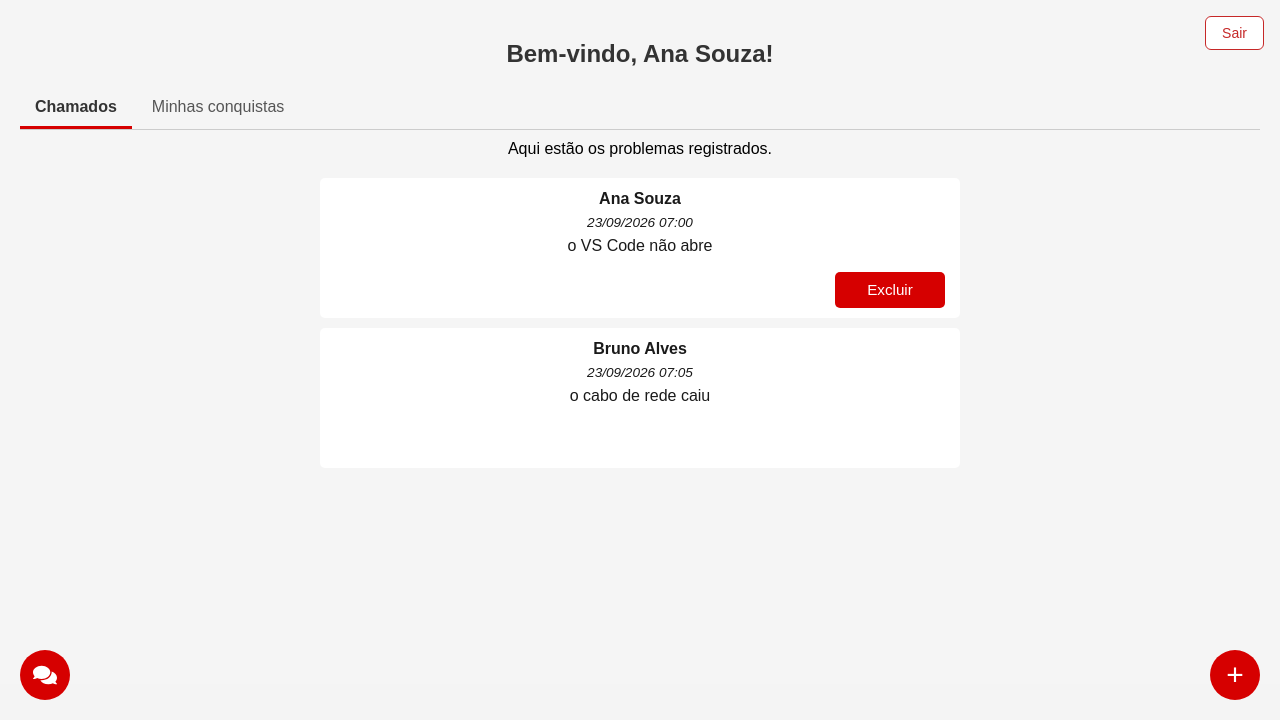
Test: o aluno exclui a própria dúvida, com confirmação (AC-CHAMADO-04) › pergunta antes, nomeando o que vai acontecer
The image size is (1280, 720).
Click the button "Excluir": (890, 290) [835,272,945,308]
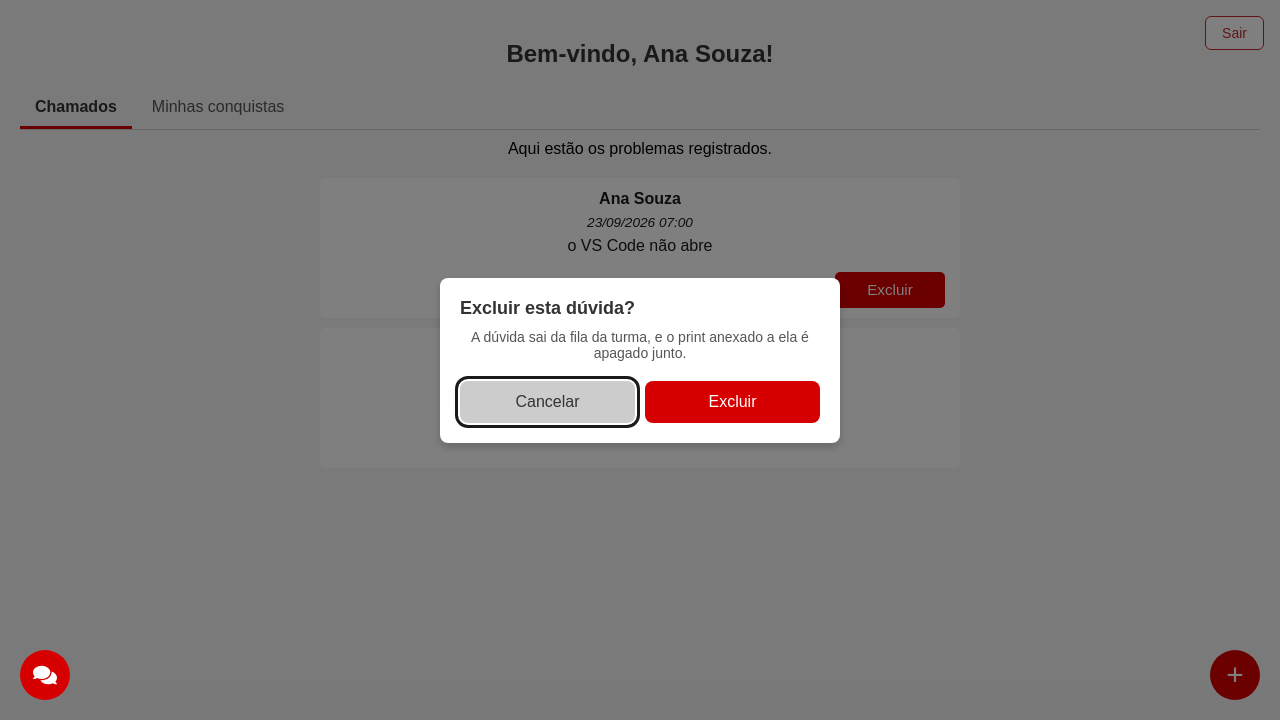
Result: the text "print" is shown at [471,328,809,360]
